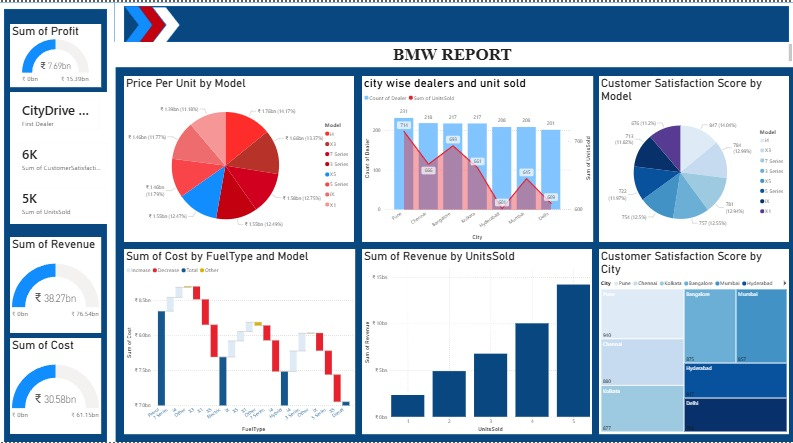

Layout of this report page (visuals, bound fields, positions):
{"tool":"powerbi","page":{"name":"dashboard","canvas":[2000,1100],"ordinal":6},"visuals":[{"type":"shape","box":[0,0,2000,1200],"z":0},{"type":"lineClusteredColumnComboChart","title":"city wise dealers and unit sold","fields":{"Category":["Sheet1.City"],"Y":["CountNonNull(Sheet1.Dealer)"],"Y2":["Sum(Sheet1.UnitsSold)"]},"box":[915,185,577.5,415],"z":1000},{"type":"shape","box":[0,0,300,1200],"z":2000},{"type":"shape","box":[20,17.5,257.5,1162.5],"z":3000},{"type":"waterfallChart","fields":{"Category":["Sheet1.FuelType"],"Breakdown":["Sheet1.Model"],"Y":["Sum(Sheet1.Cost)"]},"box":[320,617.5,577.5,462.5],"z":4000},{"type":"treemap","title":" Customer Satisfaction Score by City","fields":{"Group":["Sheet1.City"],"Values":["Sum(Sheet1.CustomerSatisfactionScore)"]},"box":[1507.5,617.5,475,462.5],"z":5000},{"type":"pieChart","title":"Customer Satisfaction Score by Model","fields":{"Category":["Sheet1.Model"],"Y":["Sum(Sheet1.CustomerSatisfactionScore)"]},"box":[1507.5,185,475,415],"z":6000},{"type":"pieChart","title":"Price Per Unit by Model","fields":{"Category":["Sheet1.Model"],"Y":["Sum(Sheet1.PricePerUnit)"]},"box":[320,185,575,415],"z":7000},{"type":"columnChart","fields":{"Y":["Sum(Sheet1.Revenue)"],"Category":["Sheet1.UnitsSold"]},"box":[915,617.5,575,462.5],"z":8000},{"type":"shape","box":[295,0,1700,110],"z":9000},{"type":"shape","box":[320,10,1662.5,90],"z":10000},{"type":"gauge","fields":{"Y":["Sum(Sheet1.Cost)"]},"box":[35,840,227.5,240],"z":11000},{"type":"gauge","fields":{"Y":["Sum(Sheet1.Profit)"]},"box":[35,55,227.5,157.5],"z":12000},{"type":"gauge","fields":{"Y":["Sum(Sheet1.Revenue)"]},"box":[35,587.5,227.5,240],"z":13000},{"type":"cardVisual","fields":{"Data":["Min(Sheet1.Dealer)"]},"box":[35,225,242.5,110],"z":14000},{"type":"cardVisual","fields":{"Data":["Sum(Sheet1.CustomerSatisfactionScore)"]},"box":[35,335,260,110],"z":15000},{"type":"cardVisual","fields":{"Data":["Sum(Sheet1.UnitsSold)"]},"box":[35,445,260,110],"z":16000},{"type":"shape","box":[320,10,72.5,95],"z":17000},{"type":"shape","box":[355,10,70,95],"z":18000},{"type":"shape","box":[390,12.5,70,90],"z":19000},{"type":"textbox","box":[295,100,1700,62.5],"z":20000}]}

Visuals, with their boxes in screenshot pixels (x1, y1, x2, y2), scaled from the page's 2000x1100 canvas onto the 793x443 screenshot:
shape: pyautogui.locateOnScreen(0, 0, 792, 442)
"city wise dealers and unit sold" lineClusteredColumnComboChart: pyautogui.locateOnScreen(363, 75, 592, 242)
shape: pyautogui.locateOnScreen(0, 0, 119, 442)
shape: pyautogui.locateOnScreen(8, 7, 110, 442)
waterfallChart - Sheet1.FuelType x Sheet1.Model: pyautogui.locateOnScreen(127, 249, 356, 435)
" Customer Satisfaction Score by City" treemap: pyautogui.locateOnScreen(598, 249, 786, 435)
"Customer Satisfaction Score by Model" pieChart: pyautogui.locateOnScreen(598, 75, 786, 242)
"Price Per Unit by Model" pieChart: pyautogui.locateOnScreen(127, 75, 355, 242)
columnChart - Sum(Sheet1.Revenue) x Sheet1.UnitsSold: pyautogui.locateOnScreen(363, 249, 591, 435)
shape: pyautogui.locateOnScreen(117, 0, 791, 44)
shape: pyautogui.locateOnScreen(127, 4, 786, 40)
gauge - Sum(Sheet1.Cost): pyautogui.locateOnScreen(14, 338, 104, 435)
gauge - Sum(Sheet1.Profit): pyautogui.locateOnScreen(14, 22, 104, 86)
gauge - Sum(Sheet1.Revenue): pyautogui.locateOnScreen(14, 237, 104, 333)
cardVisual - Min(Sheet1.Dealer): pyautogui.locateOnScreen(14, 91, 110, 135)
cardVisual - Sum(Sheet1.CustomerSatisfactionScore): pyautogui.locateOnScreen(14, 135, 117, 179)
cardVisual - Sum(Sheet1.UnitsSold): pyautogui.locateOnScreen(14, 179, 117, 224)
shape: pyautogui.locateOnScreen(127, 4, 156, 42)
shape: pyautogui.locateOnScreen(141, 4, 169, 42)
shape: pyautogui.locateOnScreen(155, 5, 182, 41)
textbox: pyautogui.locateOnScreen(117, 40, 791, 65)
